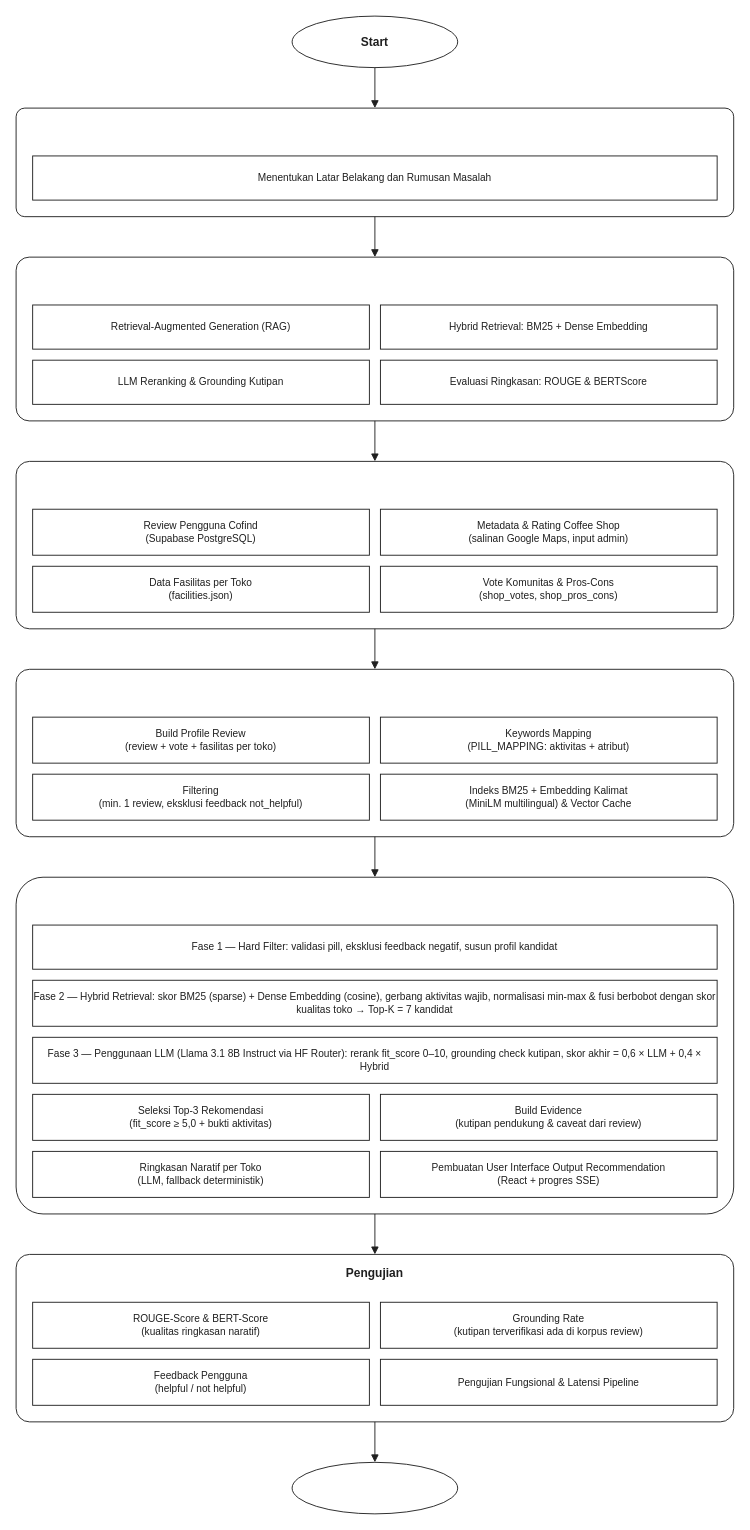
Some shapes in this 750 by 1530 pixel diagram are drawn without their labels. The shapes that lost their labels are listed below. From the top down, each one's box as (x1, y1, x2, y2) in pixels, then its label:
(15, 107, 734, 217): Analisis Masalah
(15, 256, 734, 421): Studi Literatur
(15, 460, 734, 629): Pengumpulan Data
(15, 668, 734, 837): Pemrosesan Data
(15, 876, 734, 1214): Integrasi & Implementasi — Pipeline RAG 3 Fase
(291, 1461, 458, 1514): Kesimpulan
